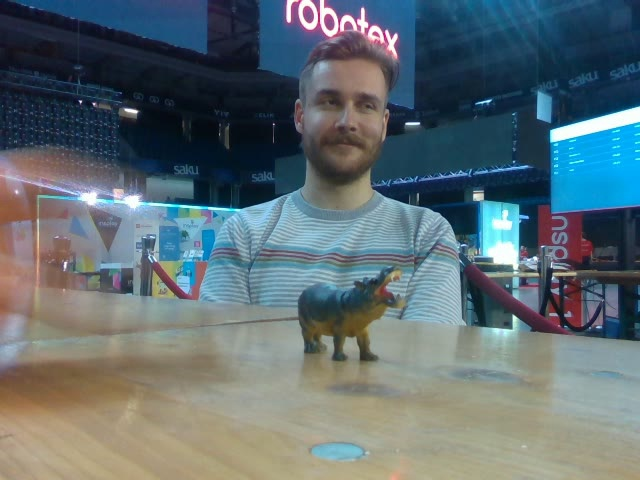toy: (297, 265, 405, 362)
